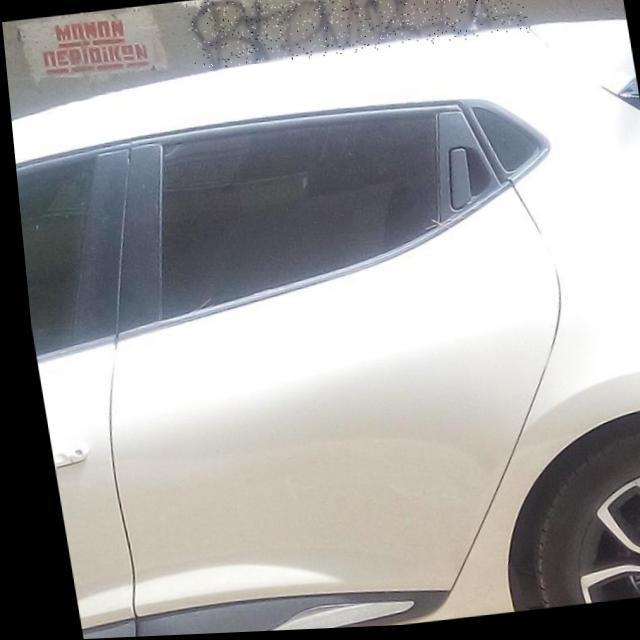-: (182, 0, 530, 72)
